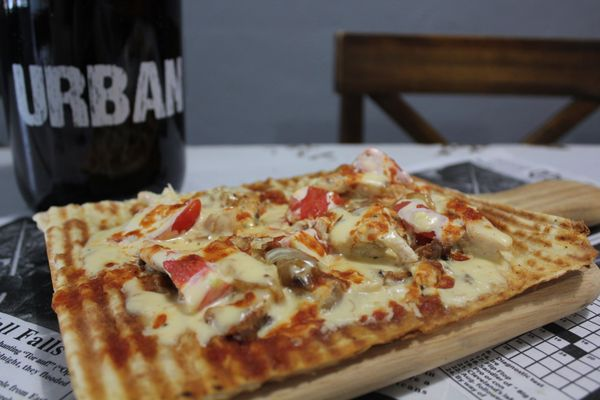pizza: (6, 0, 186, 209)
